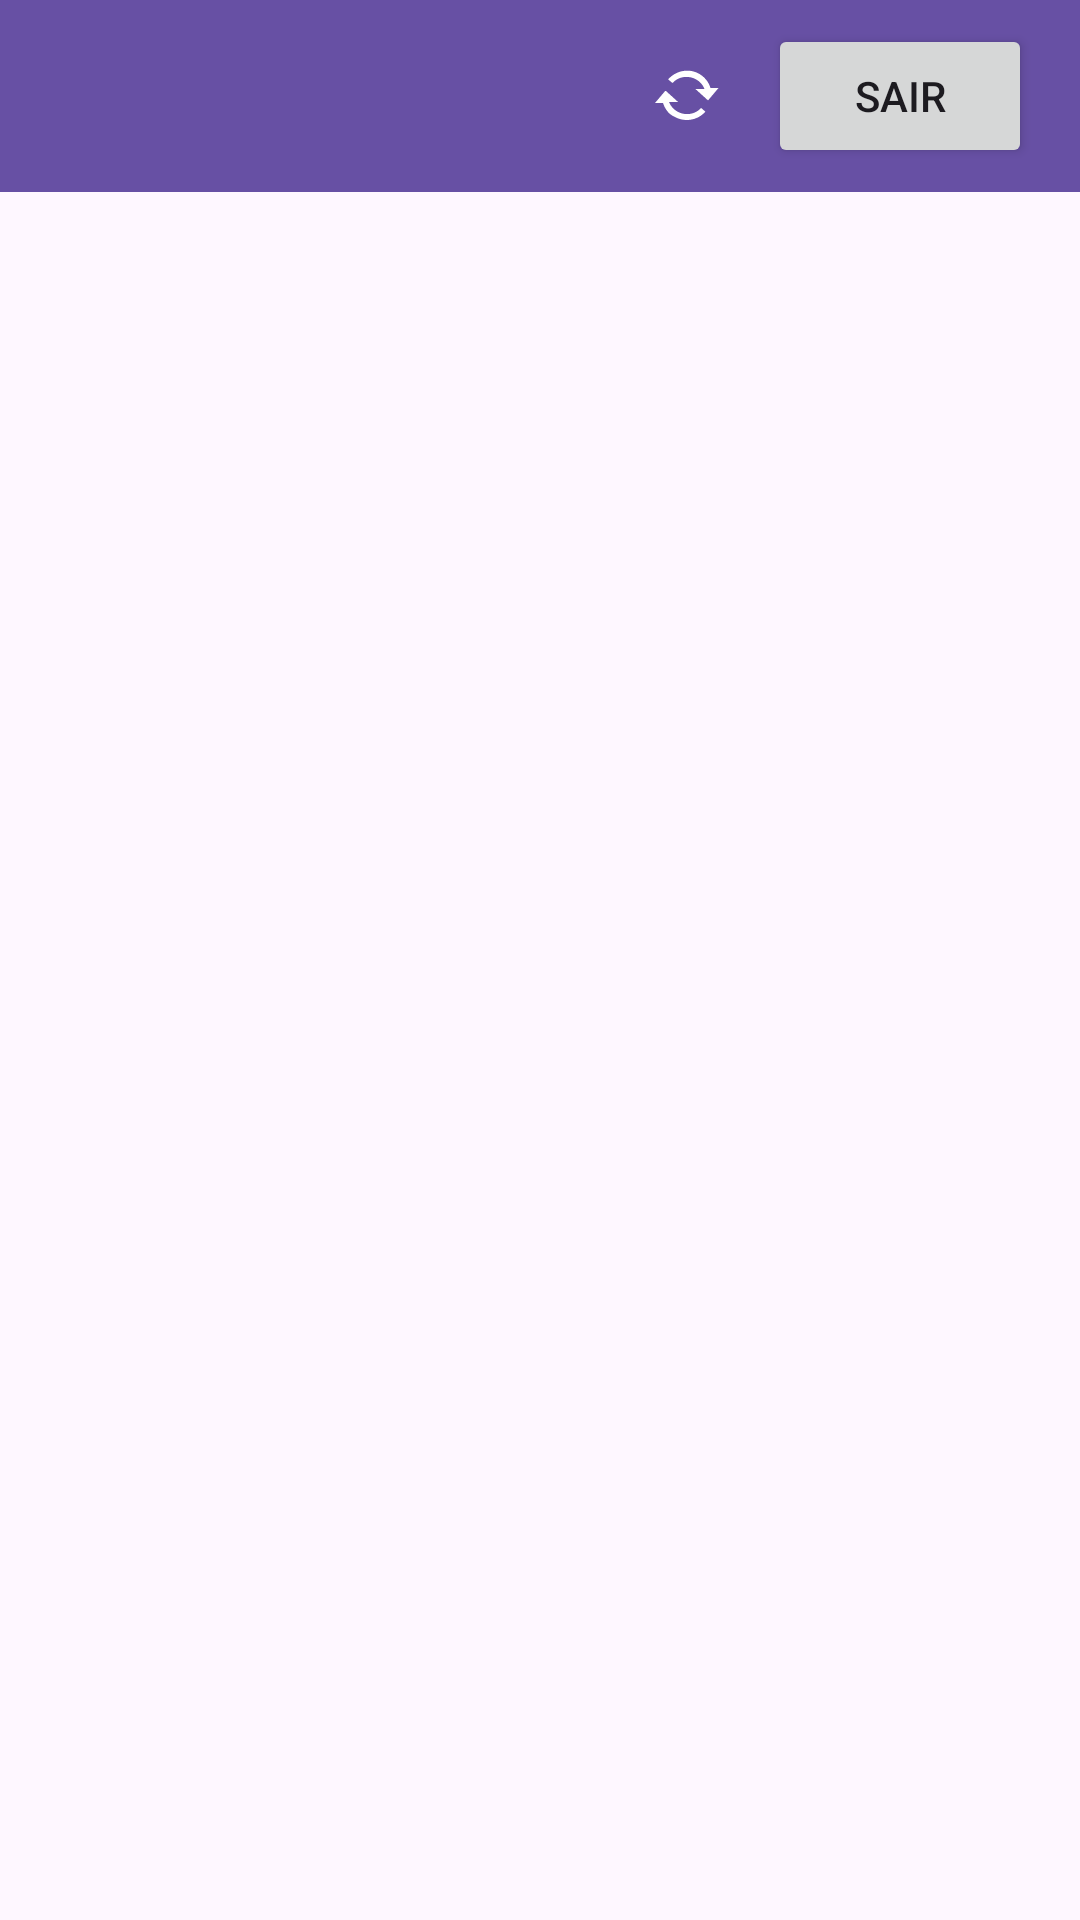

Icon click points for this 1080*1920 phone screenshot, format (x=x, y=y):
sync: (x=687, y=95)
